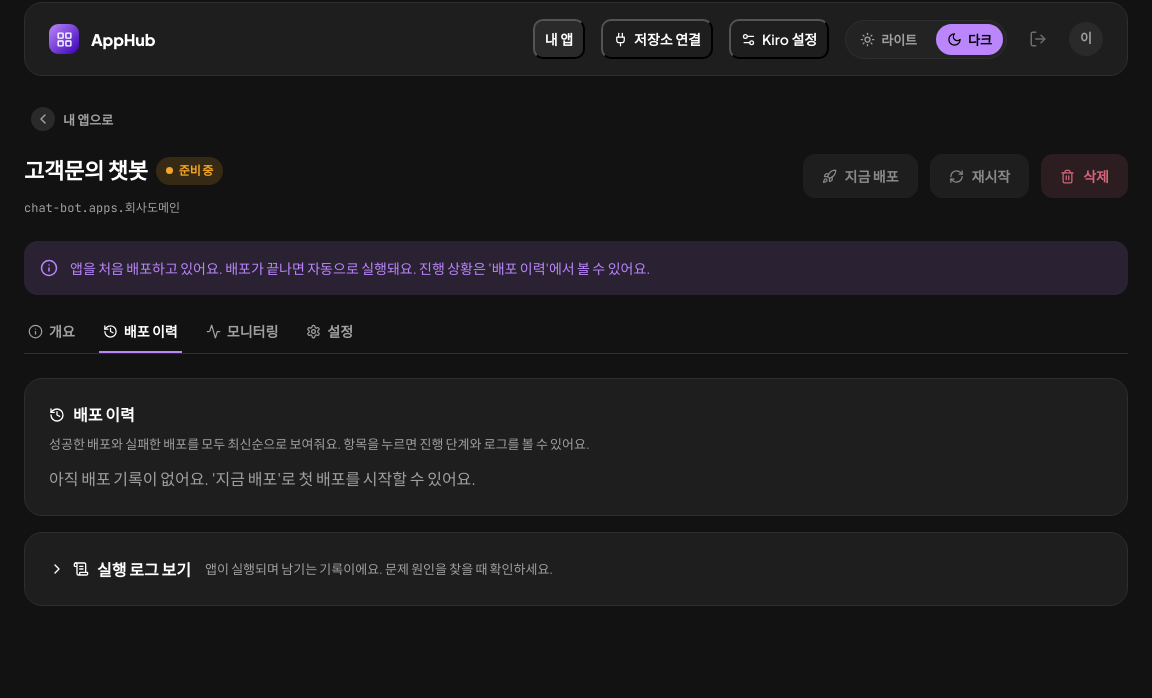
Test case: M6 — 앱 실행 로그(최신이 위) › '이전 로그 더 보기'는 nextToken 으로 더 오래된 로그를 아래에 이어 붙인다
Click the button "실행 로그 보기 앱이 실행되며 남기는 기록이에요. 문제 원인을 찾을 때 확인하세요.". click: point(144, 569)
box: [49, 557, 1103, 581]
(page scrolled)
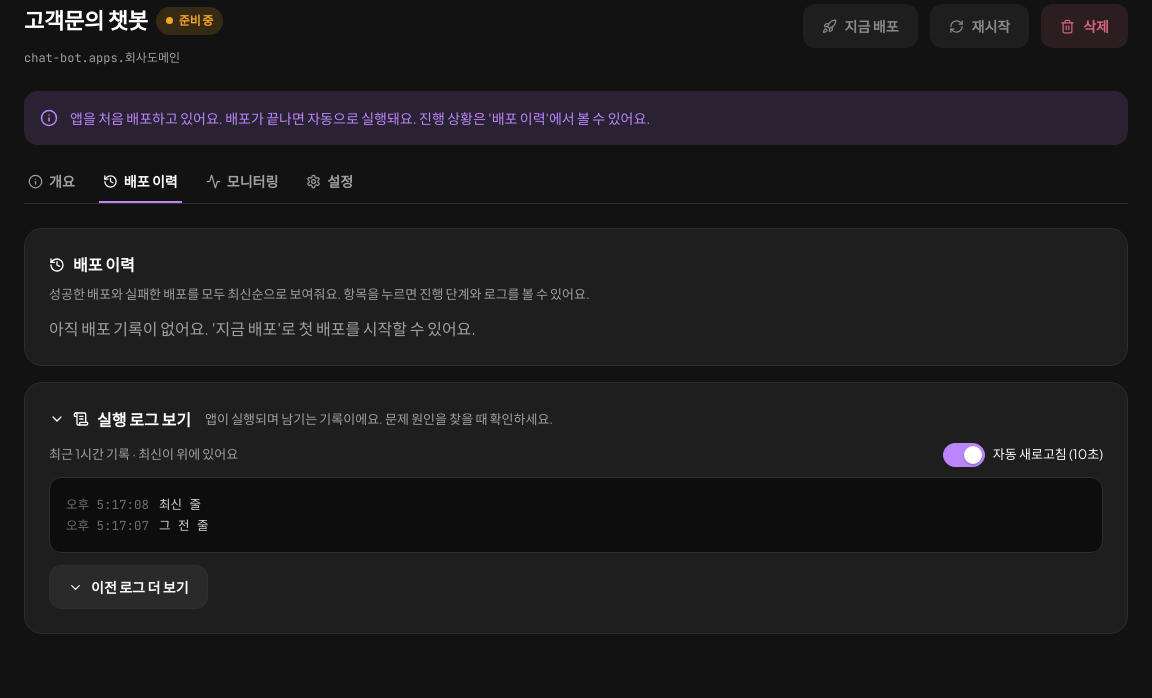
Click the button "이전 로그 더 보기". click: point(128, 587)
box: [49, 565, 208, 609]
(page scrolled)
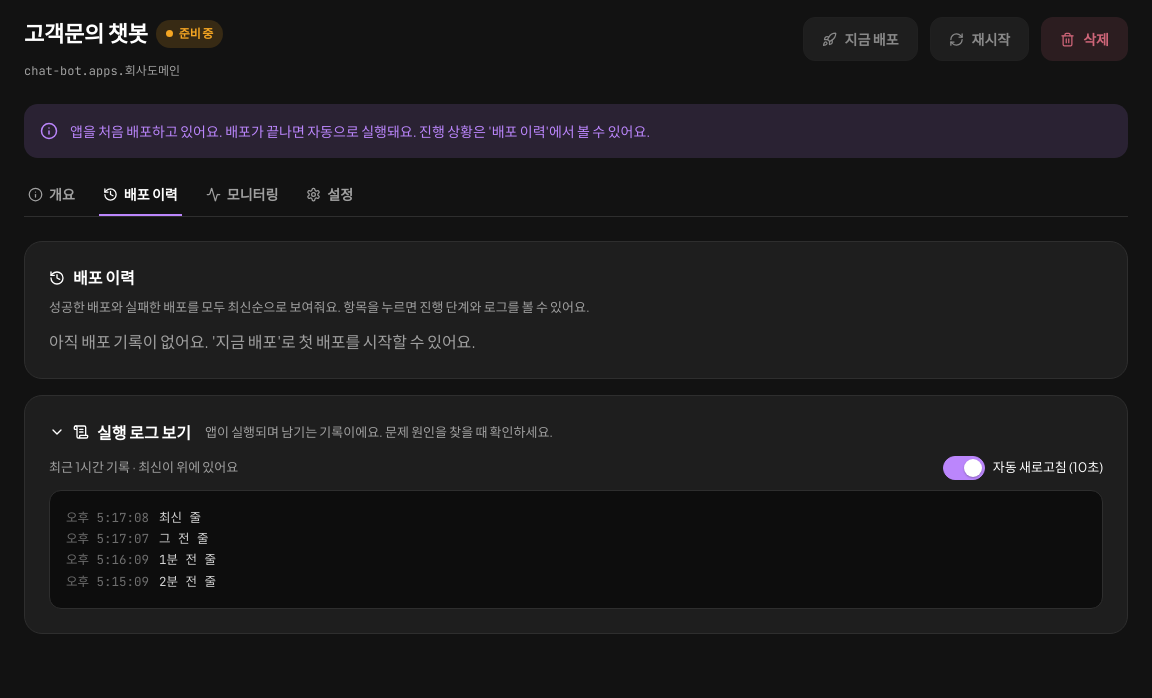
Check: the element with class "log-line" shows "최신 줄", box [159, 509, 201, 526]
Check: the element with class "log-line" shows "2분 전 줄", box [159, 573, 216, 590]
Check: the button "이전 로그 더 보기" is gone
